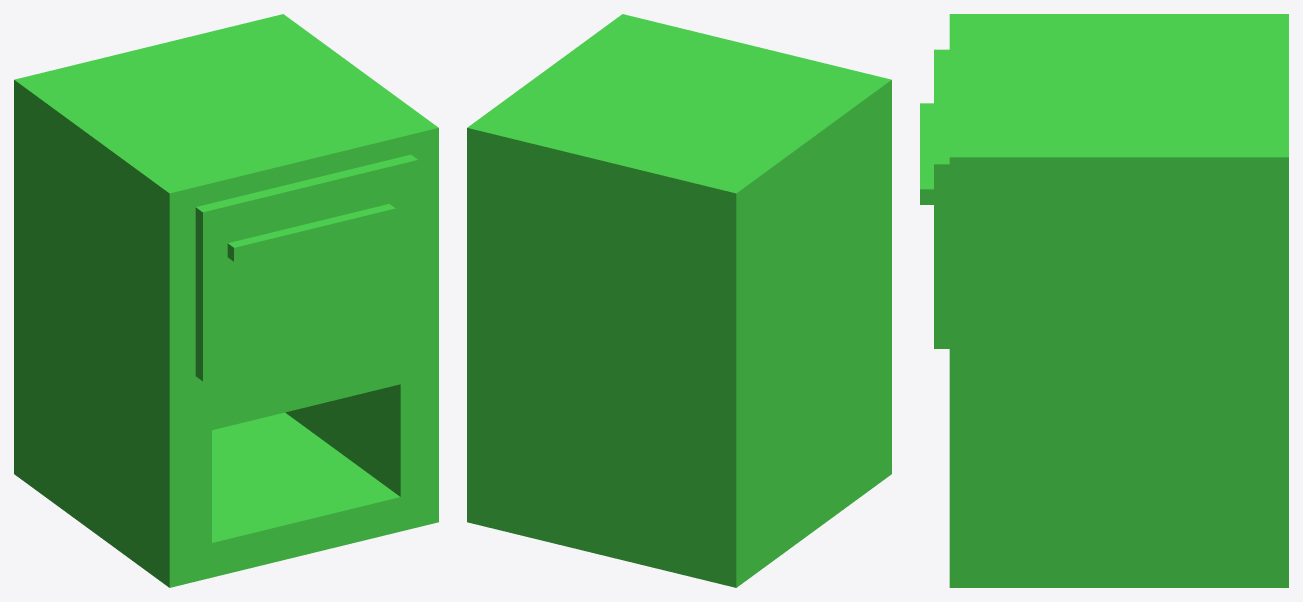
The model's file is nachtkastje.glb.
3 renders of one model, left to right at view 1: azimuth 30°, elevation 25°; view 2: azimuth 150°, elevation 25°; view 3: azimuth 270°, elevation 25°, orthographic. The views are drawn at different scales.
Parts seen in each view (by area): view 1: Cube.001, Cube.003, Cube.004; view 2: Cube.001; view 3: Cube.001, Cube.003, Cube.004.
Part boxes in pixels (bbox=[...]): Cube.001: bbox=[14, 14, 438, 587]; Cube.003: bbox=[195, 154, 418, 381]; Cube.004: bbox=[227, 204, 395, 261]; Cube.001: bbox=[467, 14, 891, 587]; Cube.001: bbox=[949, 14, 1288, 587]; Cube.003: bbox=[934, 49, 949, 348]; Cube.004: bbox=[920, 103, 933, 204].
Size of the model in its own units: 1 by 1.4 by 1.09.
